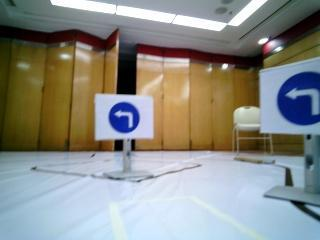left: (262, 69, 320, 134), (98, 95, 151, 137)
